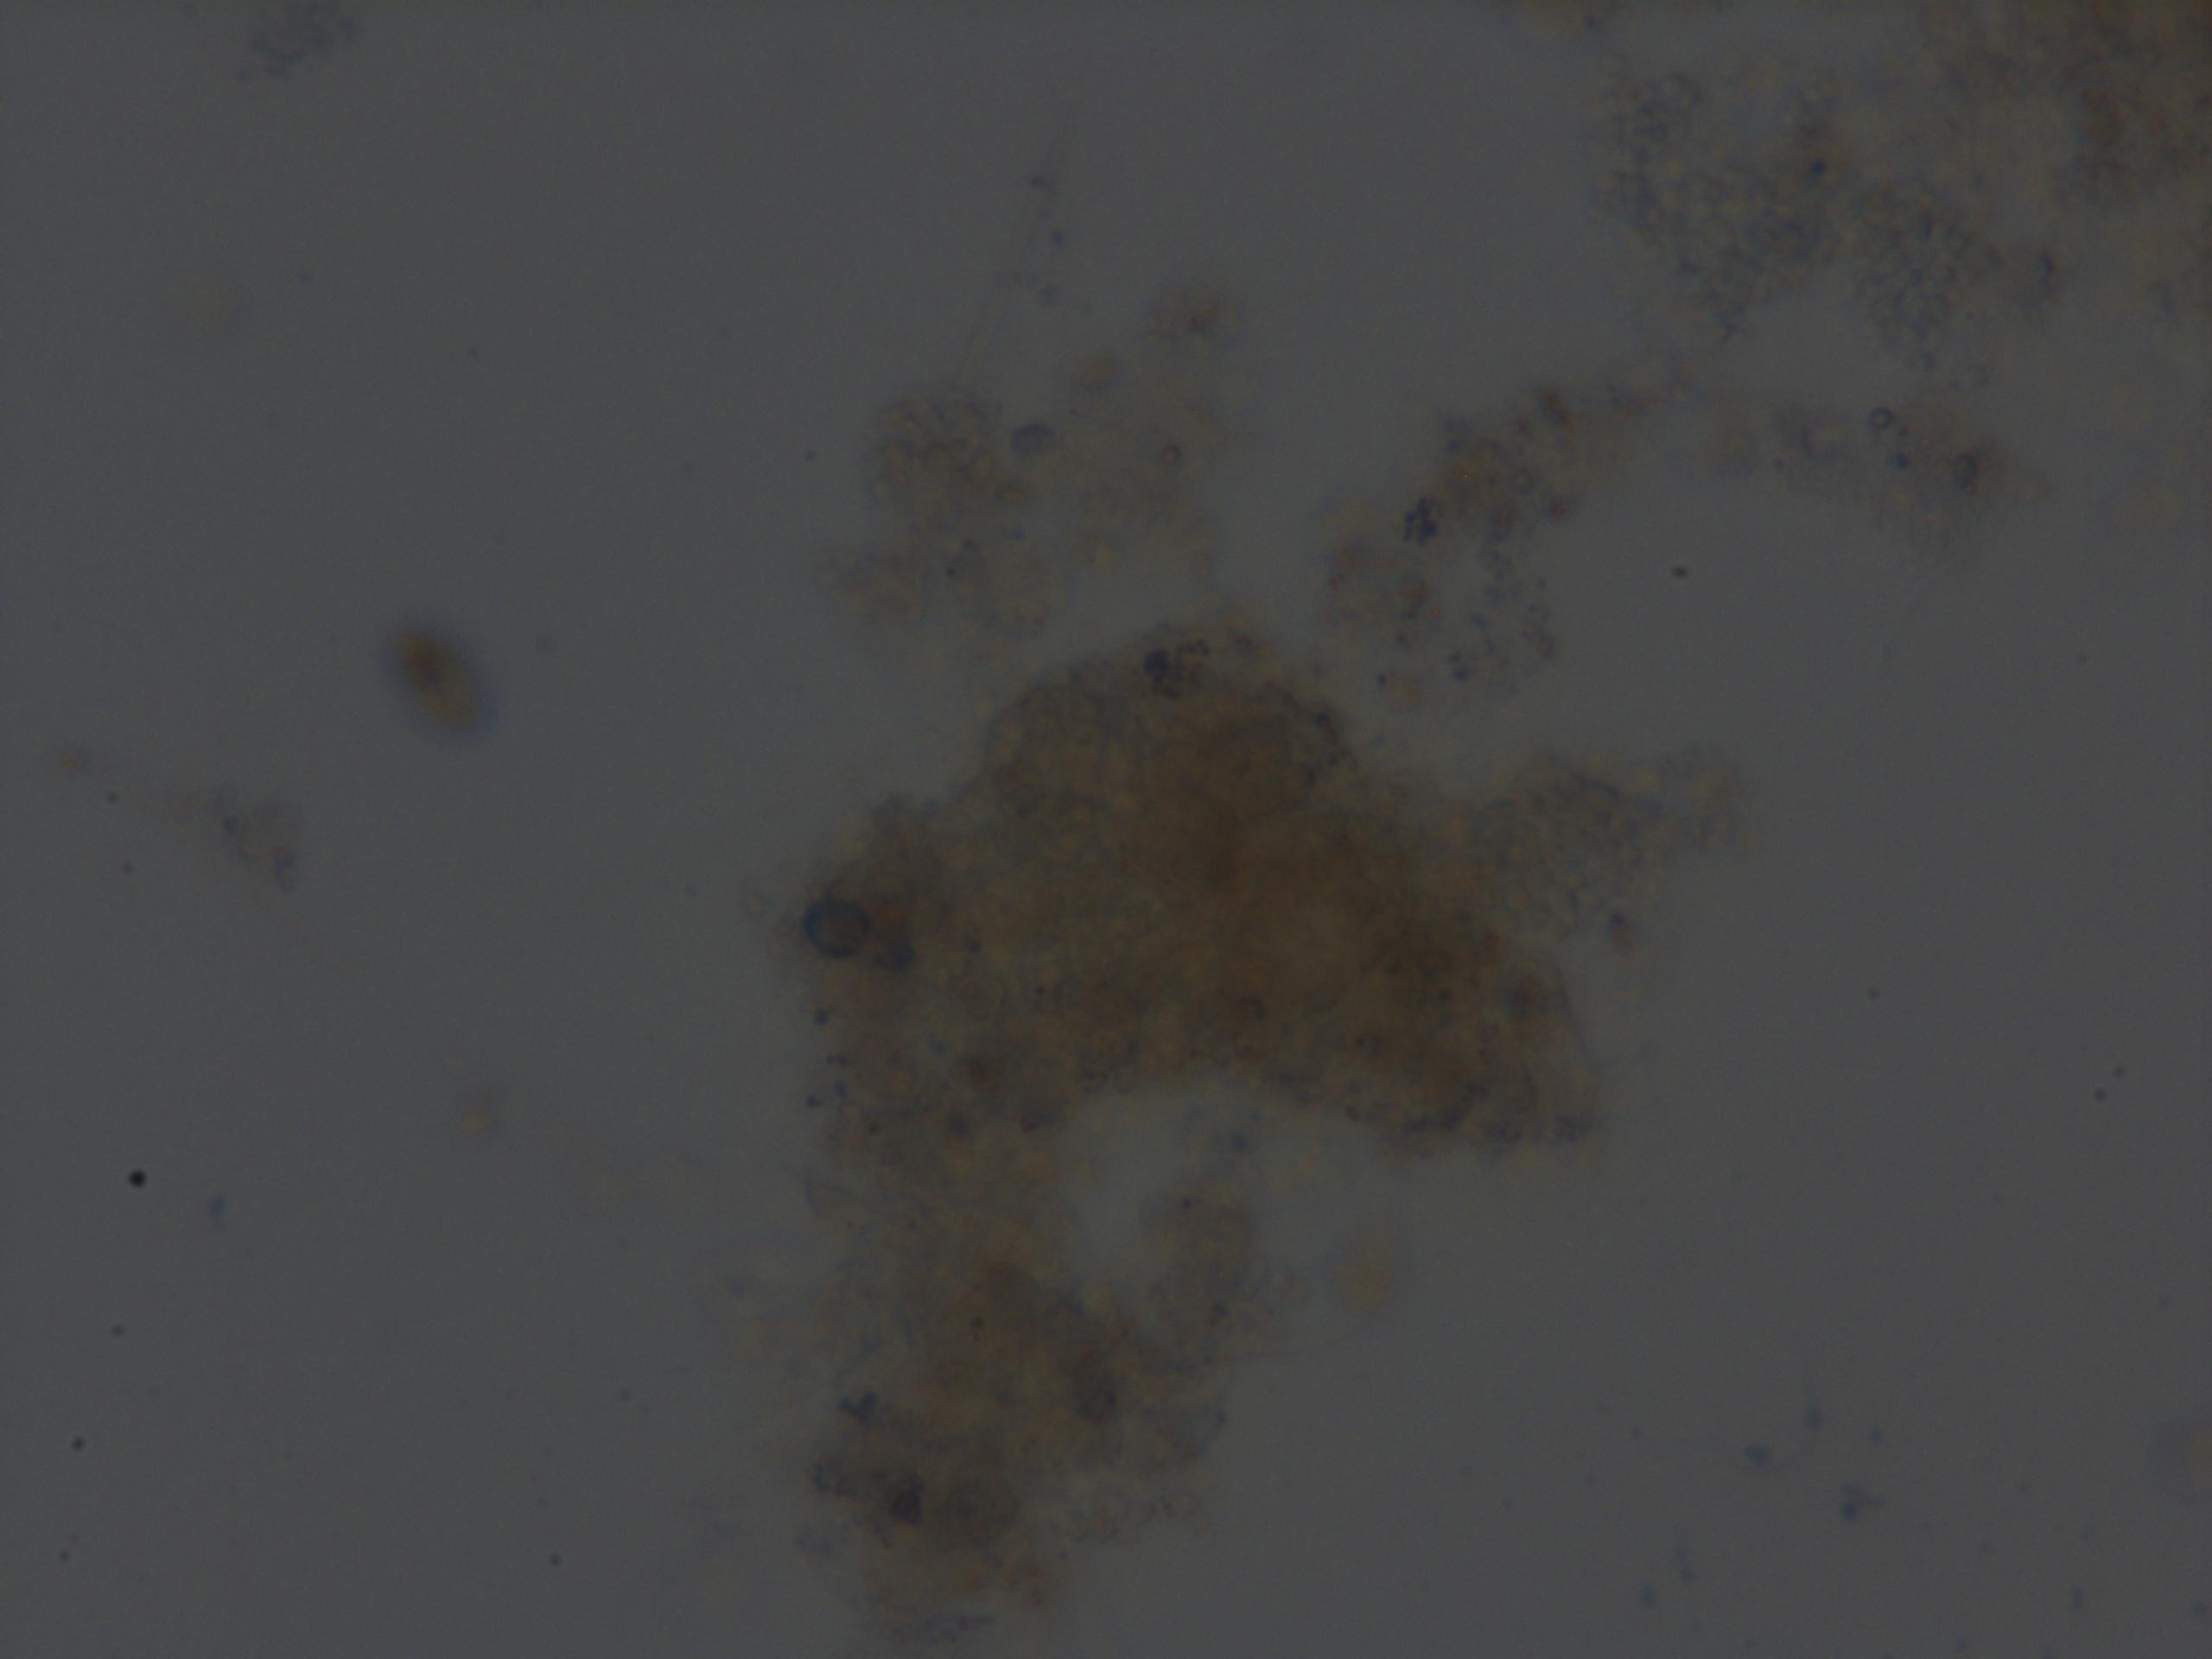open_floc: (780, 627, 1616, 1659)
